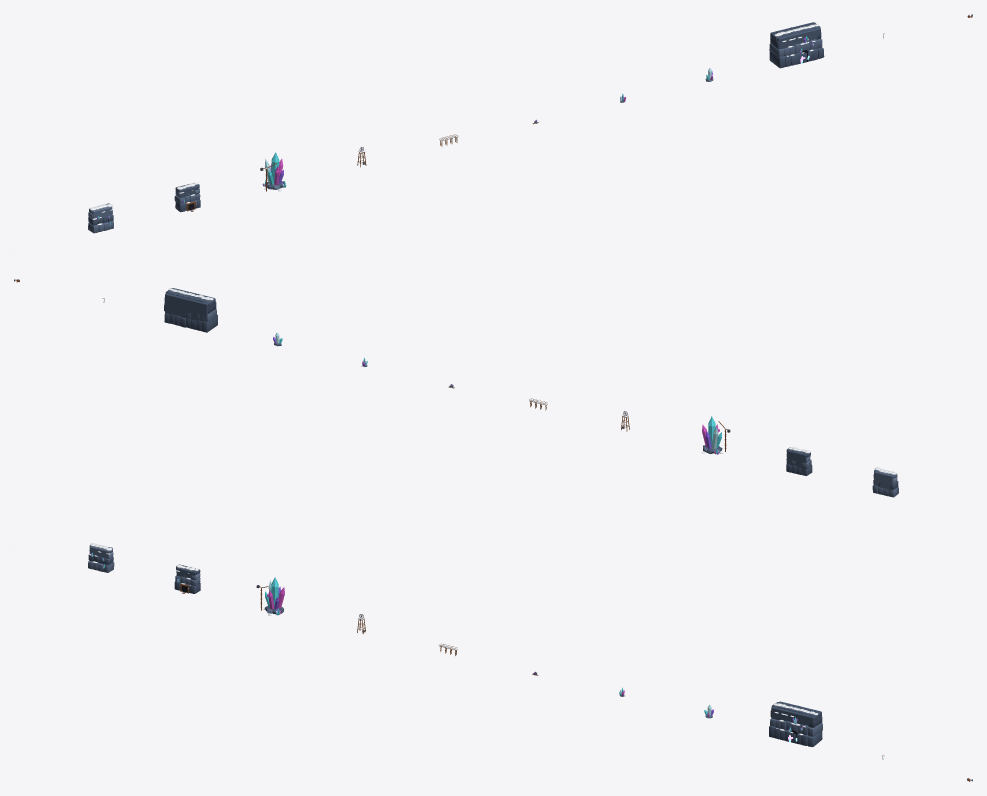
The model's file is W1_Crystal.fbx.
The picture shows the model from 3 angles, top to bottom: view 1: azimuth 30°, elevation 25°; view 2: azimuth 150°, elevation 25°; view 3: azimuth 330°, elevation 25°; orthographic projection.
Visible parts, largest first — view 1: X_Cave__Rock0__4A5A74SP; view 2: X_Cave__Rock0__4A5A74SP; view 3: X_Cave__Rock0__4A5A74SP.
Part boxes in pixels (x1,y1,x2,y2): X_Cave__Rock0__4A5A74SP: [769, 22, 824, 68]; X_Cave__Rock0__4A5A74SP: [164, 288, 217, 332]; X_Cave__Rock0__4A5A74SP: [769, 701, 822, 746].
Size of the model in its own units: 1324 by 47.37 by 30.08.
